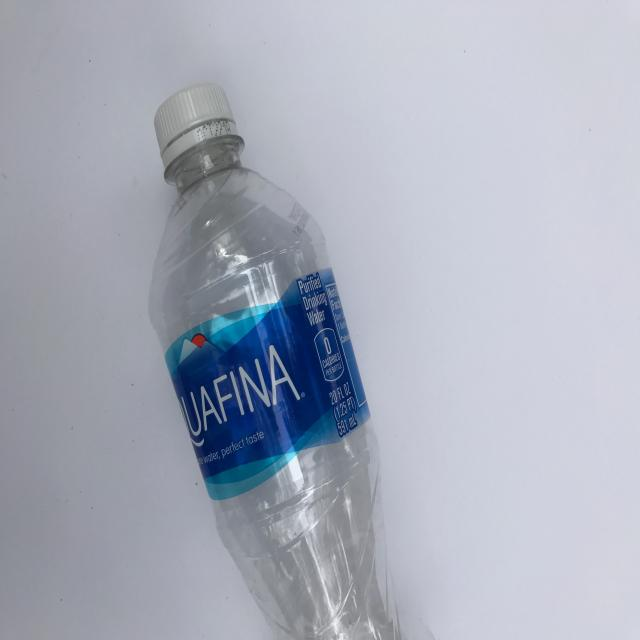plastic: (147, 81, 405, 639)
